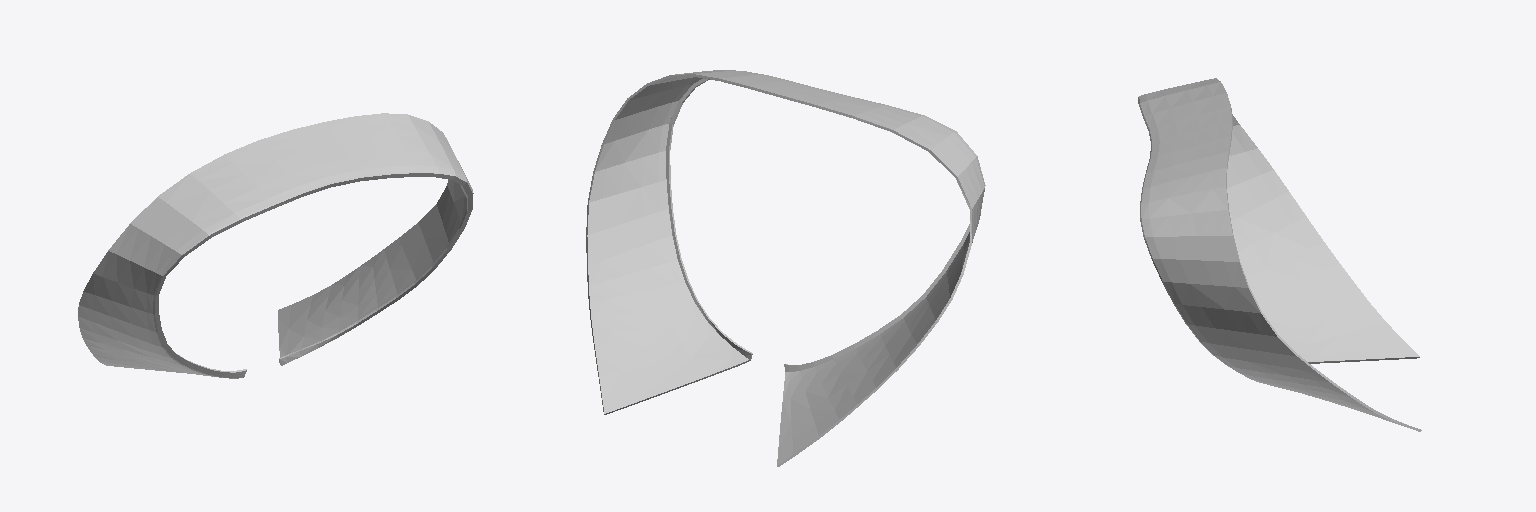
The picture shows the model from 3 angles: view 1: azimuth 30°, elevation 25°; view 2: azimuth 150°, elevation 25°; view 3: azimuth 270°, elevation 25°; orthographic projection.
Parts seen in each view (by area): view 1: 21__2_pieces_collar_3; view 2: 21__2_pieces_collar_3; view 3: 21__2_pieces_collar_3.
Part boxes in pixels (left/top/right/bottom): 21__2_pieces_collar_3: left=78, top=113, right=473, bottom=378; 21__2_pieces_collar_3: left=586, top=70, right=985, bottom=466; 21__2_pieces_collar_3: left=1138, top=78, right=1421, bottom=431.
Bounding box in the file's own units: 17.84 × 13.08 × 11.91.